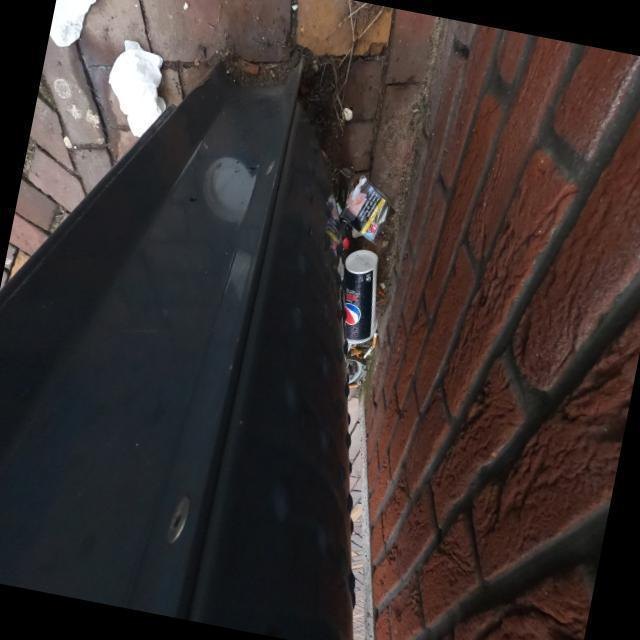Cup: (342, 248, 380, 344)
Paper: (108, 39, 168, 140), (338, 174, 396, 242), (49, 0, 97, 48)
